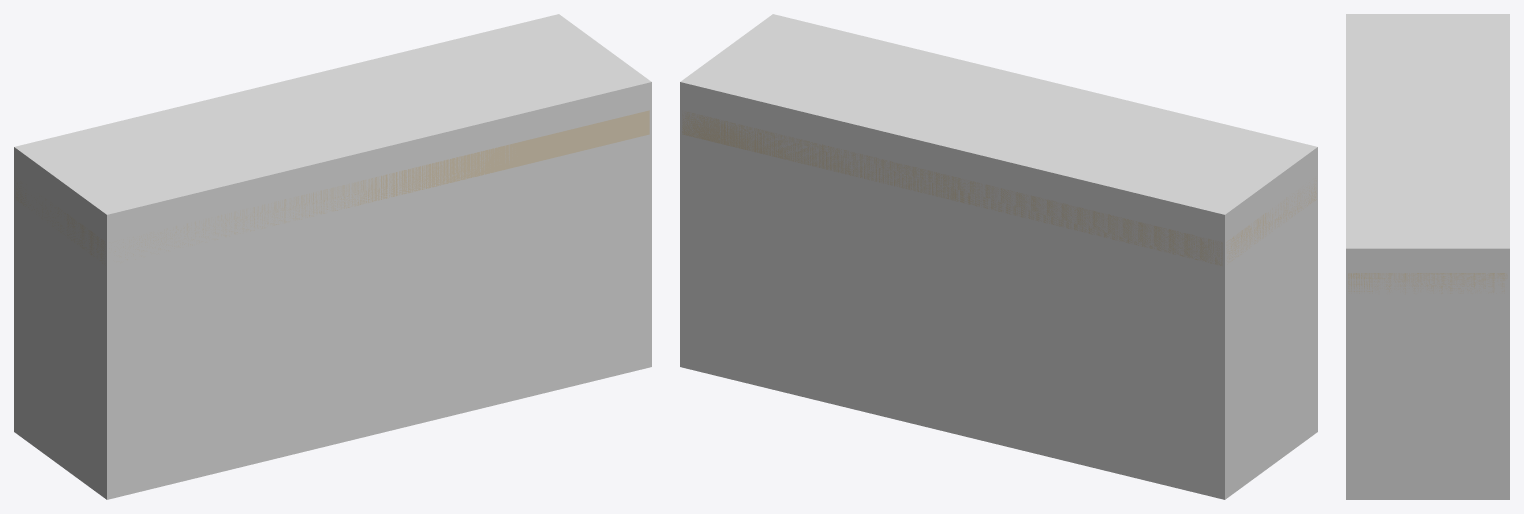
The model's file is back-counter_basic.glb.
3 renders of one model, left to right at view 1: azimuth 30°, elevation 25°; view 2: azimuth 150°, elevation 25°; view 3: azimuth 270°, elevation 25°, orthographic. The views are drawn at different scales.
Parts seen in each view (by area): view 1: COL_back-counter, MESH_Worktop; view 2: COL_back-counter, MESH_Worktop; view 3: COL_back-counter, MESH_Worktop.
Boxes of the visible parts, <box> form: COL_back-counter: <box>14,14,651,499</box>; MESH_Worktop: <box>15,110,649,265</box>; COL_back-counter: <box>680,14,1317,499</box>; MESH_Worktop: <box>682,111,1316,265</box>; COL_back-counter: <box>1346,14,1509,499</box>; MESH_Worktop: <box>1348,273,1507,294</box>.
Size of the model in its own units: 2.1 by 1.05 by 0.62.
